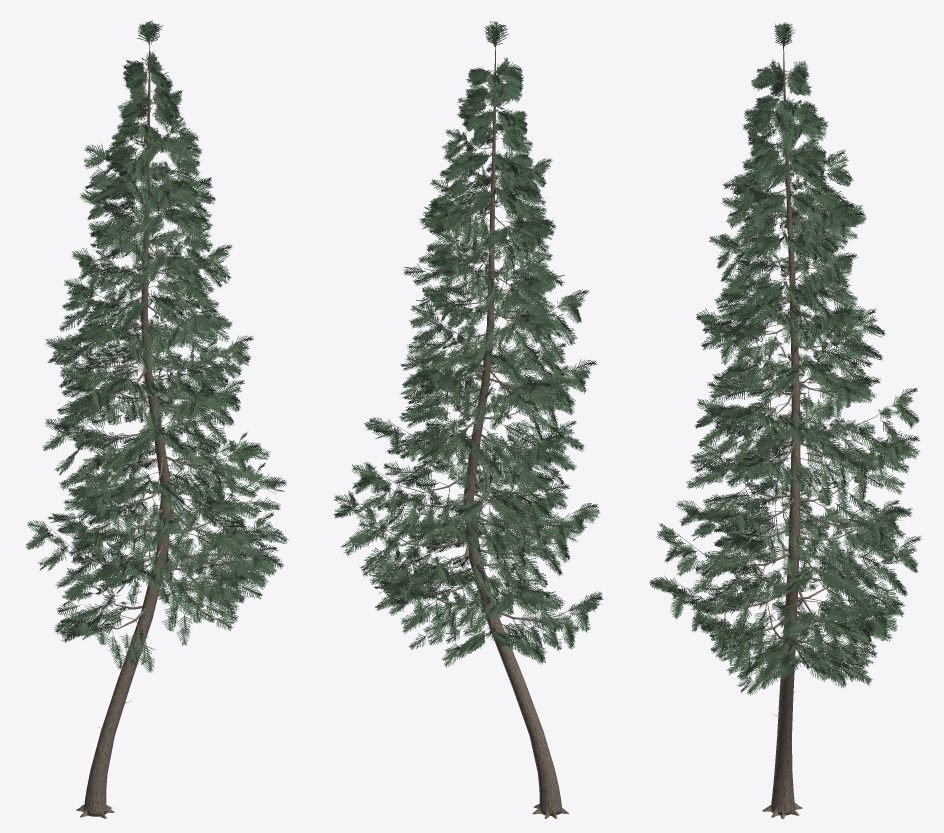
The model's file is SS_Defect_Bent_Young_02_LOD0.fbx.
The picture shows the model from 3 angles, left to right: view 1: azimuth 30°, elevation 25°; view 2: azimuth 150°, elevation 25°; view 3: azimuth 270°, elevation 25°; orthographic projection. The views are drawn at different scales.
Parts seen in each view (by area): view 1: SS_Defect_Bent_Young_02_LOD0_Foliage, SS_Defect_Bent_Young_02_LOD0_Trunk, SS_Defect_Bent_Young_02_LOD0_Branches; view 2: SS_Defect_Bent_Young_02_LOD0_Foliage, SS_Defect_Bent_Young_02_LOD0_Trunk, SS_Defect_Bent_Young_02_LOD0_Branches; view 3: SS_Defect_Bent_Young_02_LOD0_Foliage, SS_Defect_Bent_Young_02_LOD0_Branches, SS_Defect_Bent_Young_02_LOD0_Trunk.
Part boxes in pixels (left/top/right/bottom): SS_Defect_Bent_Young_02_LOD0_Foliage: left=25, top=20, right=288, bottom=672; SS_Defect_Bent_Young_02_LOD0_Trunk: left=76, top=22, right=171, bottom=818; SS_Defect_Bent_Young_02_LOD0_Branches: left=44, top=60, right=267, bottom=728; SS_Defect_Bent_Young_02_LOD0_Foliage: left=333, top=21, right=603, bottom=667; SS_Defect_Bent_Young_02_LOD0_Trunk: left=463, top=23, right=568, bottom=818; SS_Defect_Bent_Young_02_LOD0_Branches: left=351, top=66, right=583, bottom=729; SS_Defect_Bent_Young_02_LOD0_Foliage: left=649, top=22, right=921, bottom=695; SS_Defect_Bent_Young_02_LOD0_Branches: left=671, top=67, right=904, bottom=716; SS_Defect_Bent_Young_02_LOD0_Trunk: left=762, top=23, right=802, bottom=818.
Size of the model in its own units: 378 by 1100 by 354.
Materials: 2 (2 with a texture image).
